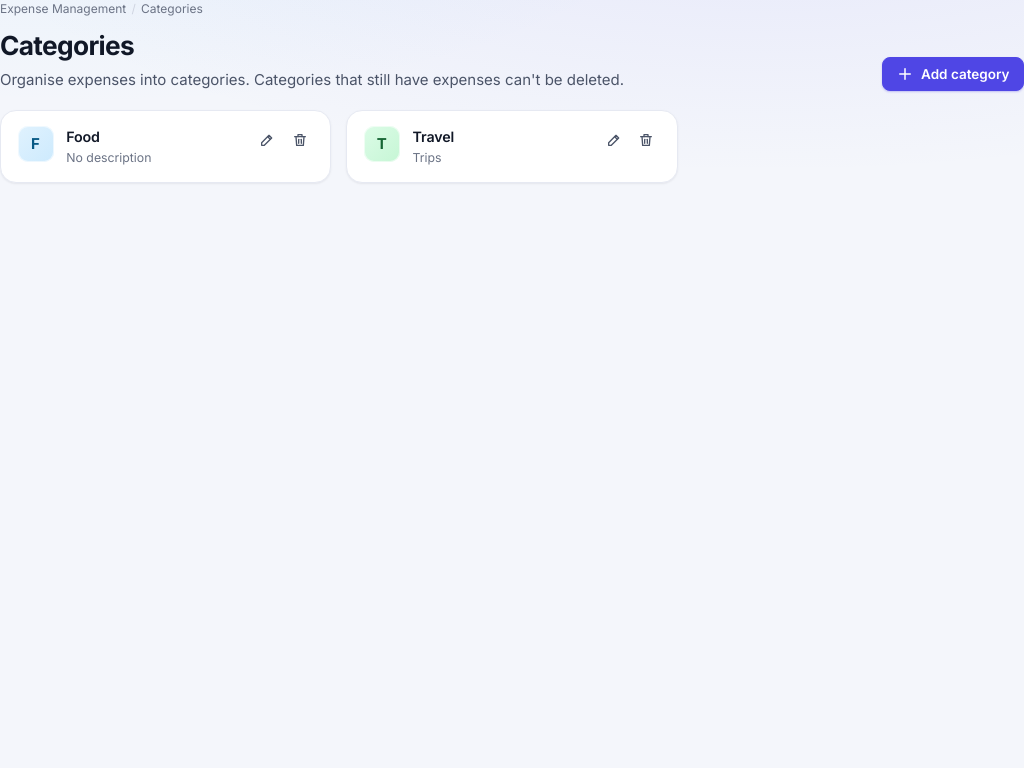
CategoriesPage › rename → PUTs the new name and keeps the description
expect the heading "Travel" is shown: met, box [413, 128, 454, 145]
Click the 3rd button named "Rename Travel": (614, 140) [599, 126, 628, 154]
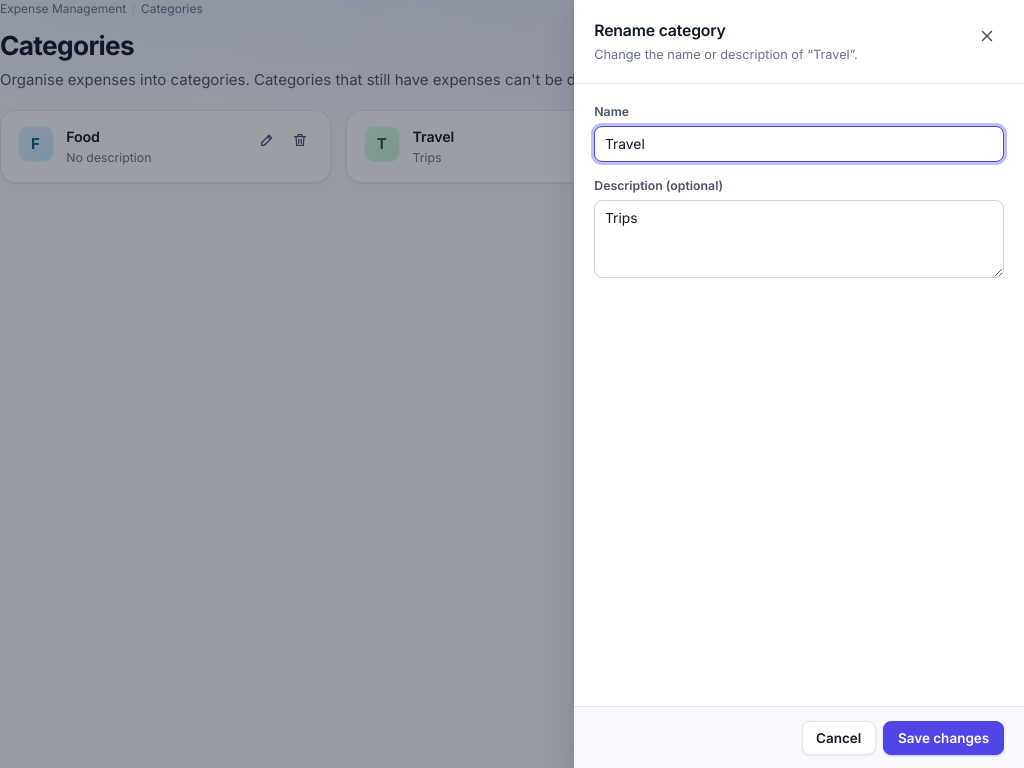
expect the field labelled "Name" holds "Travel": met
Replace the text in the field labelled "Name" with "Trips": (799, 144) [594, 126, 1004, 162]
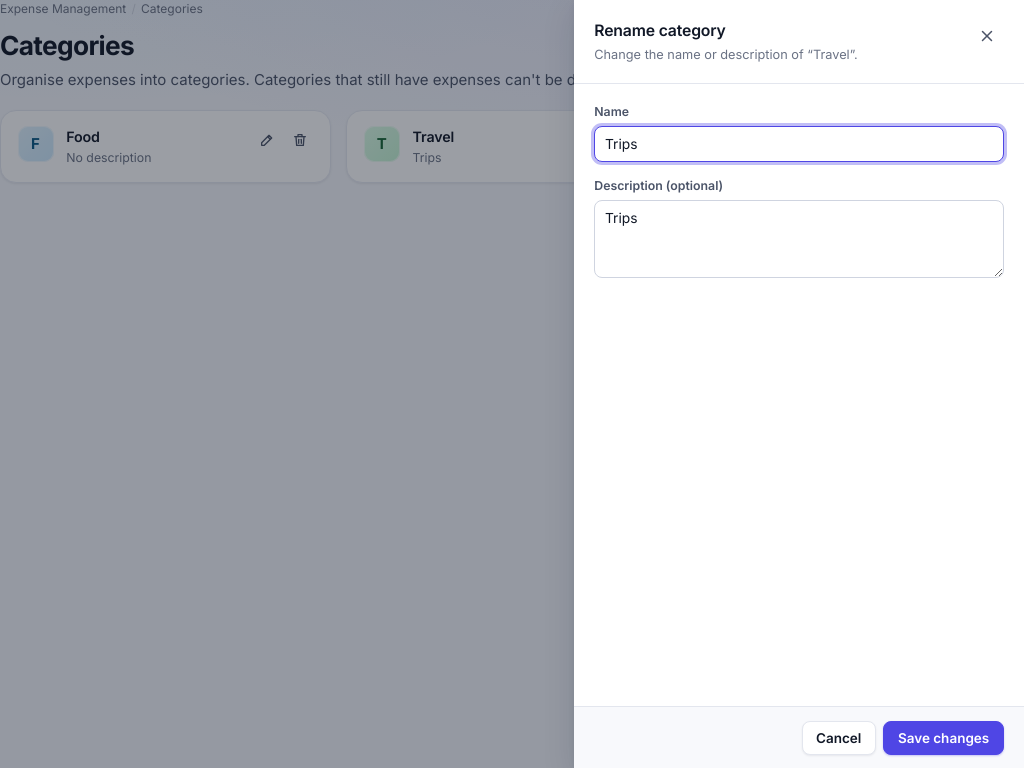
Click the button "Save changes": (944, 738) [883, 721, 1004, 755]
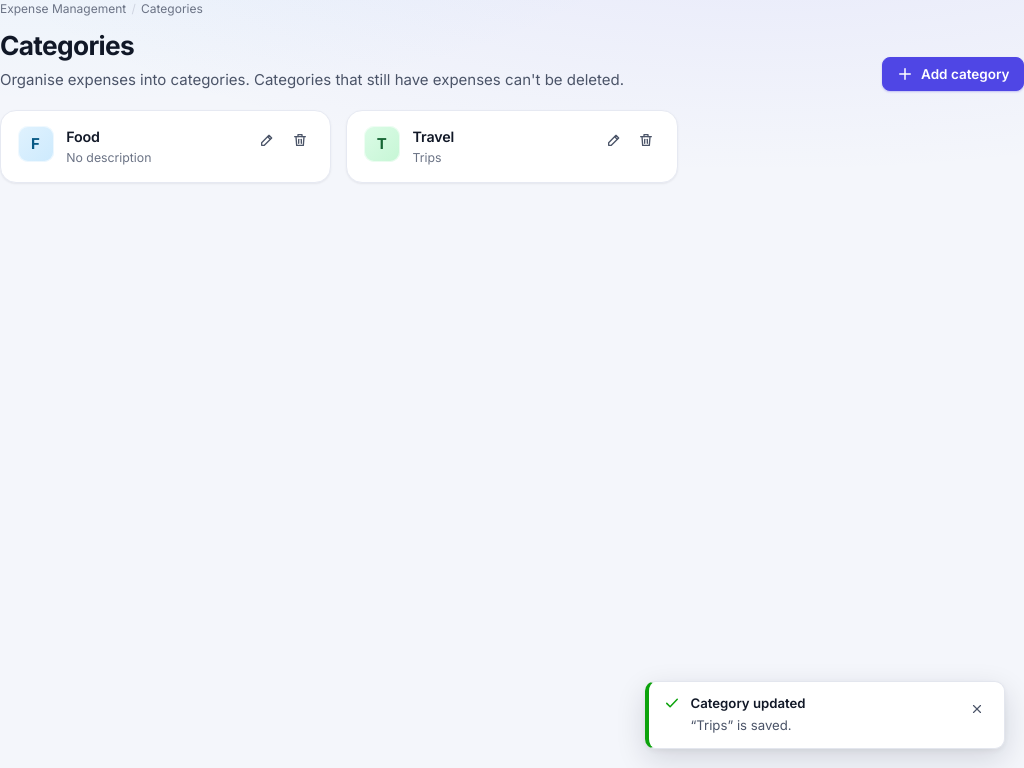
expect the text "Category updated" is shown: met, box [690, 695, 806, 711]
